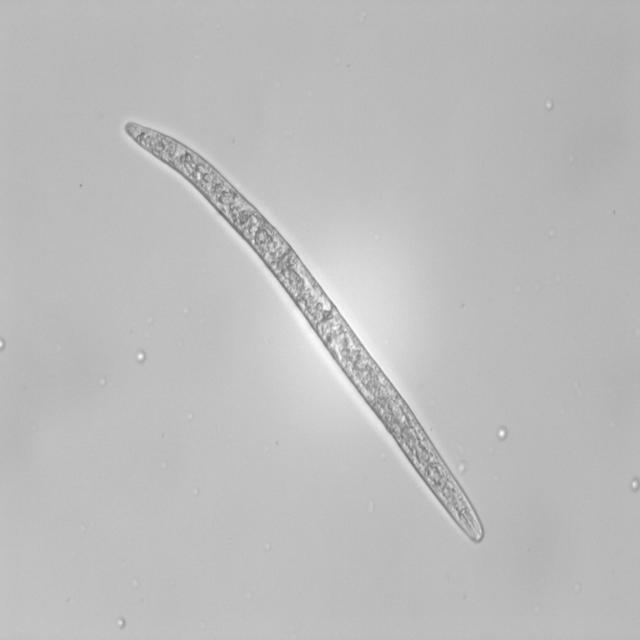Pratylenchus: (104, 118, 487, 551)
